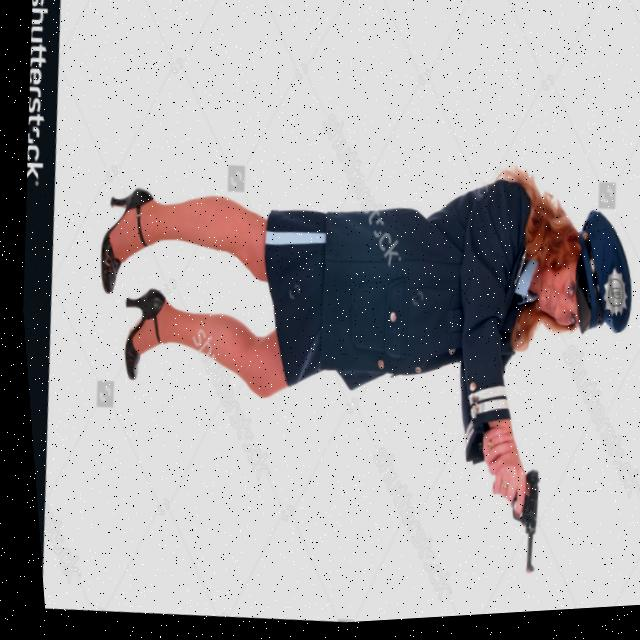pistol: (498, 471, 540, 582)
